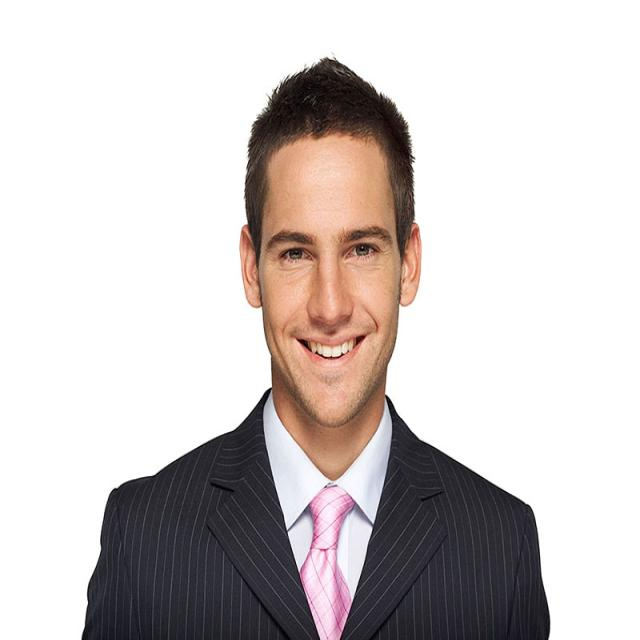human: (81, 52, 599, 640)
